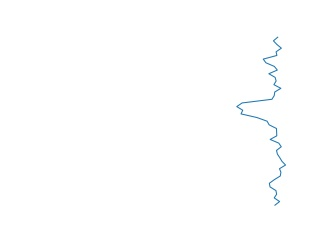interdistributaryEstuary: (233, 37, 293, 204)
